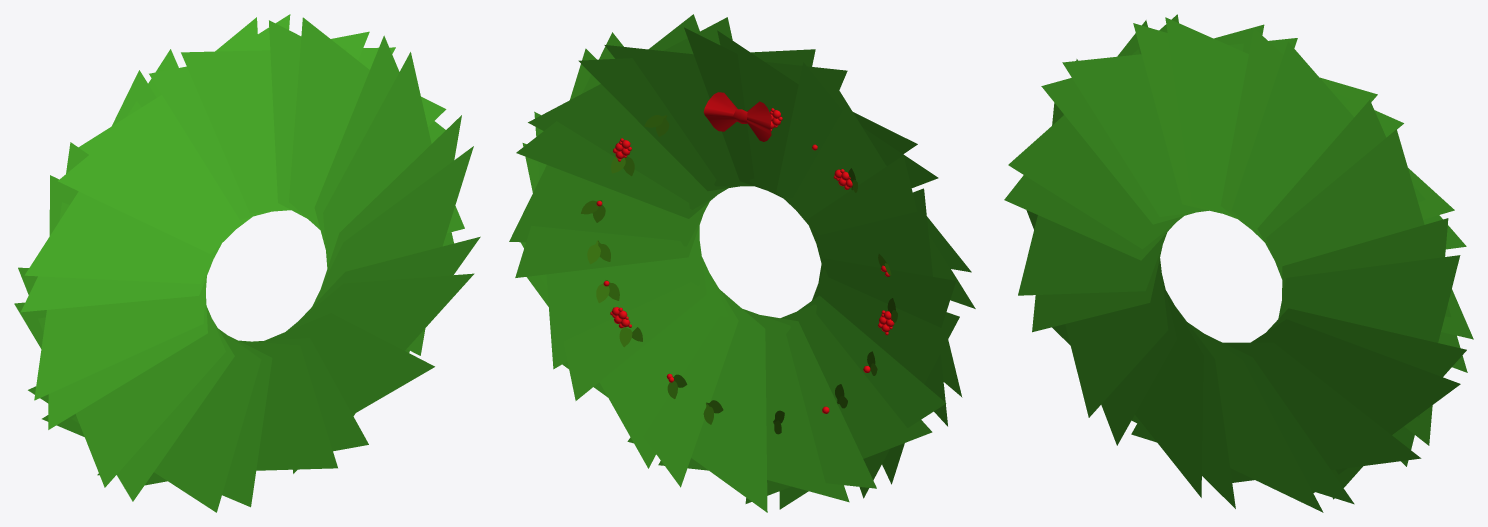
Rendered from SM_Wreath.glb.
3 renders of one model, left to right at view 1: azimuth 30°, elevation 25°; view 2: azimuth 150°, elevation 25°; view 3: azimuth 330°, elevation 25°, orthographic.
Parts seen in each view (by area): view 1: Plane; view 2: Plane; view 3: Plane.
Boxes of the visible parts, bbox=[...] form: Plane: bbox=[14, 14, 480, 512]; Plane: bbox=[509, 14, 975, 512]; Plane: bbox=[1004, 14, 1473, 512].
Size of the model in its own units: 2.43 by 2.43 by 0.2951.
